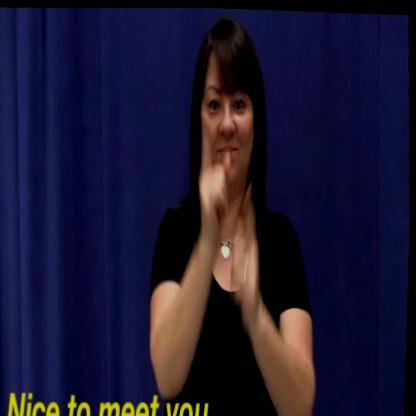NiceToMeetYou: (178, 94, 278, 327)
